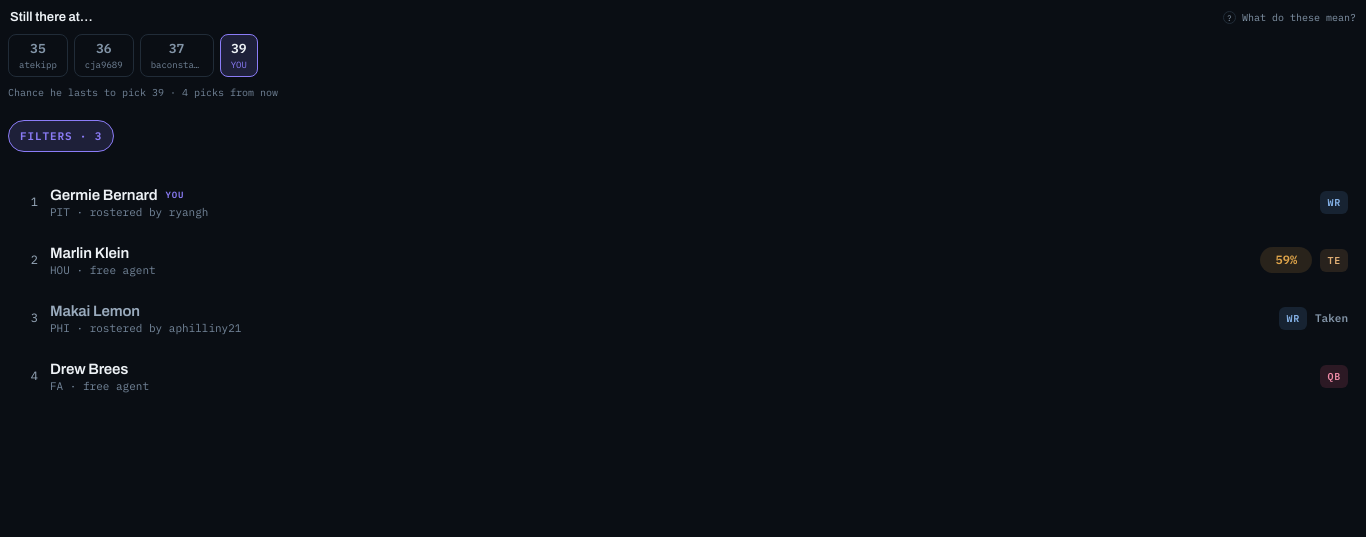
it: BestAvailable › with availability intel › the drill-down › pushes the detail in place and comes back, rather than opening a second sheet
Click the button "2 Marlin Klein HOU · free agent 59% TE" at (90, 253), box [8,232,1358,288]
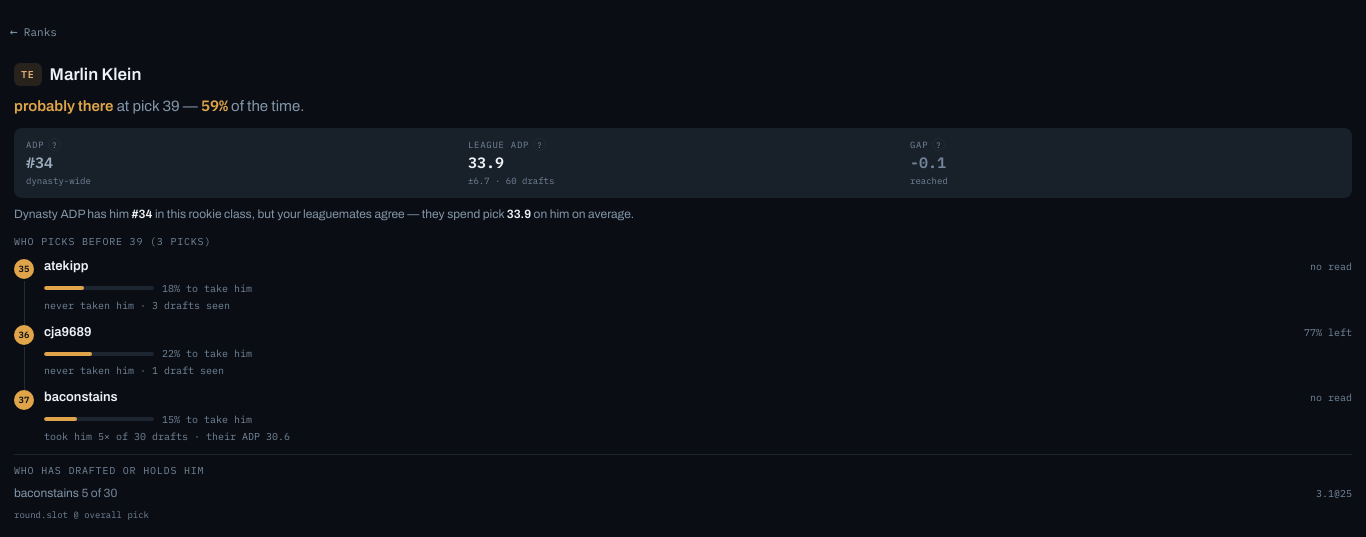
Expected: the text "probably there" is shown, [14,98,114,114]
Expected: the text "Who picks before 39 (3 picks)" is shown, [14,235,211,248]
Expected: the text "Drew Brees" is gone
Click the button "← Ranks" at (33, 32), box [4,10,63,54]
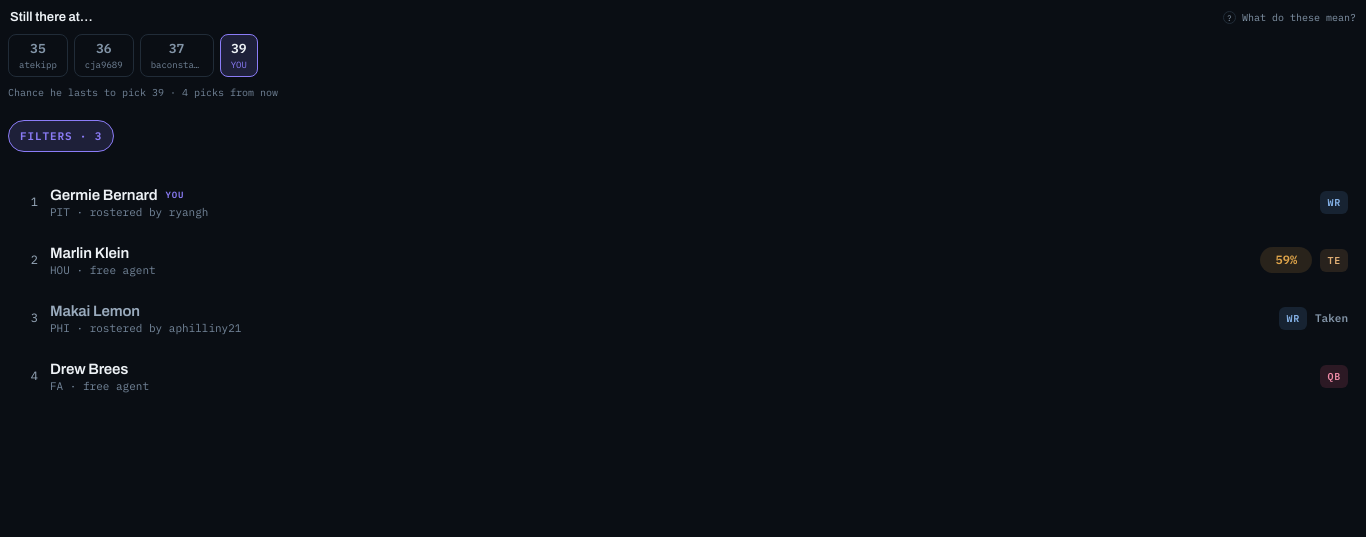
Expected: the text "Drew Brees" is shown, [50,359,128,379]
